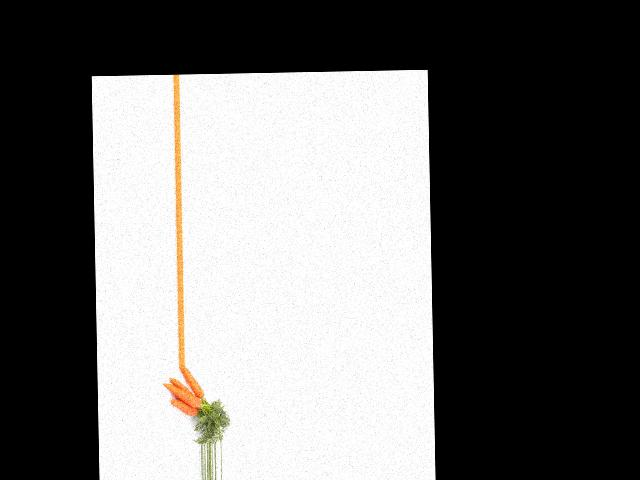carrot: (167, 397, 200, 417)
